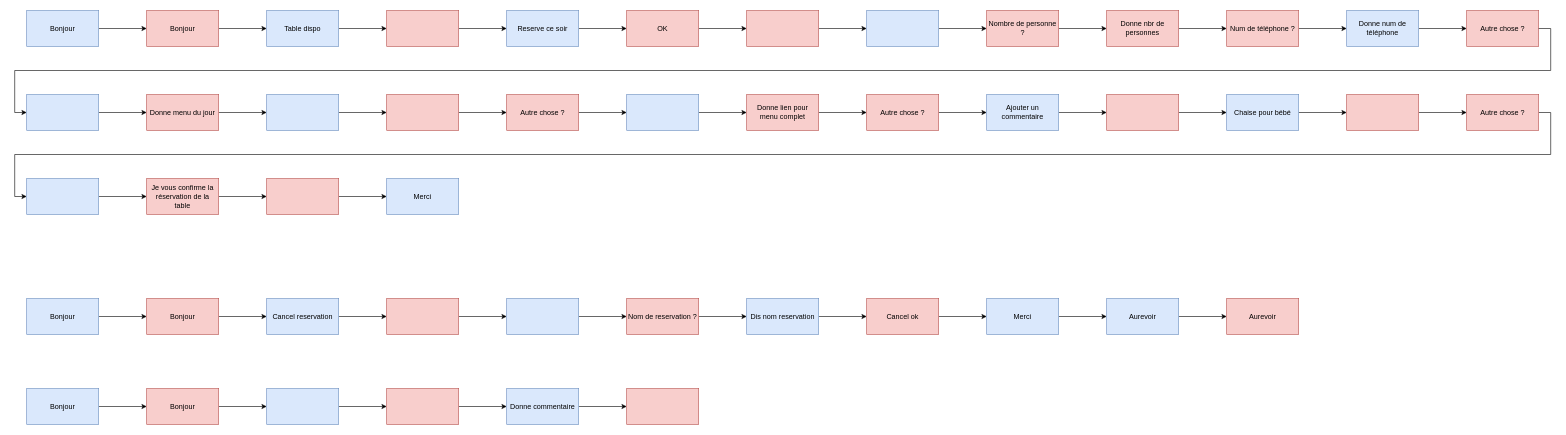
Some shapes in this 1566 by 435 pixel diagram are drawn without their labels. The box of each missing label's shape, as (x1, y1, x2, y2) in pixels:
Allergies ?: (266, 94, 339, 130)
Aujourd'hui: (506, 298, 579, 334)
Checktable: (386, 10, 459, 46)
Commentaire ajouté: (1346, 94, 1419, 130)
Commentaire enregistrer: (626, 388, 699, 424)
Demande le commenaire ?: (1106, 94, 1179, 130)
Demande le commentaire: (386, 388, 459, 424)
Dis allergies: (386, 94, 459, 130)
Donne le nom: (866, 10, 939, 46)
Lien pour menu complet ?: (626, 94, 699, 130)
Menu du jour ?: (26, 94, 99, 130)
Modifier commentaire: (266, 388, 339, 424)
Montre les infos de la réservation: (266, 178, 339, 214)
Nom ?: (746, 10, 819, 46)
Quand ?: (386, 298, 459, 334)
Tout est bon: (26, 178, 99, 214)
